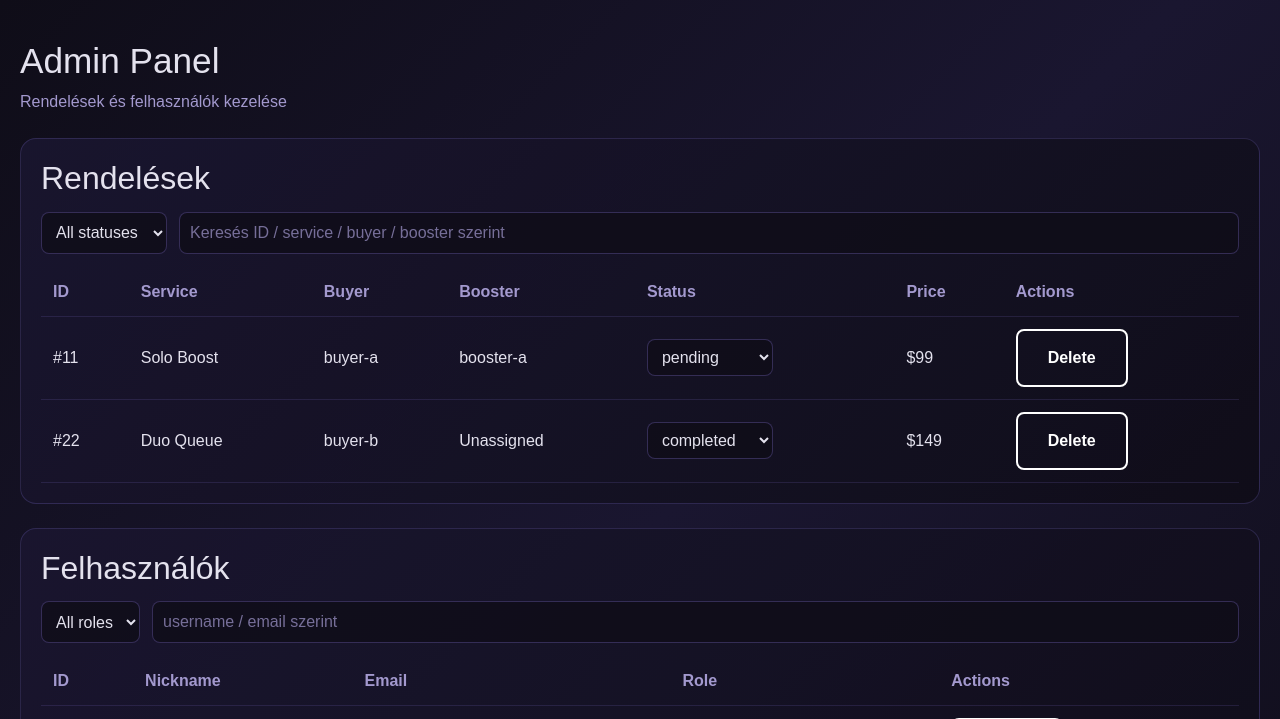
Admin Dashboard › filters orders by status
The image size is (1280, 719).
Select "completed" in the 1st dropdown at (104, 233), box [41,212,167,254]
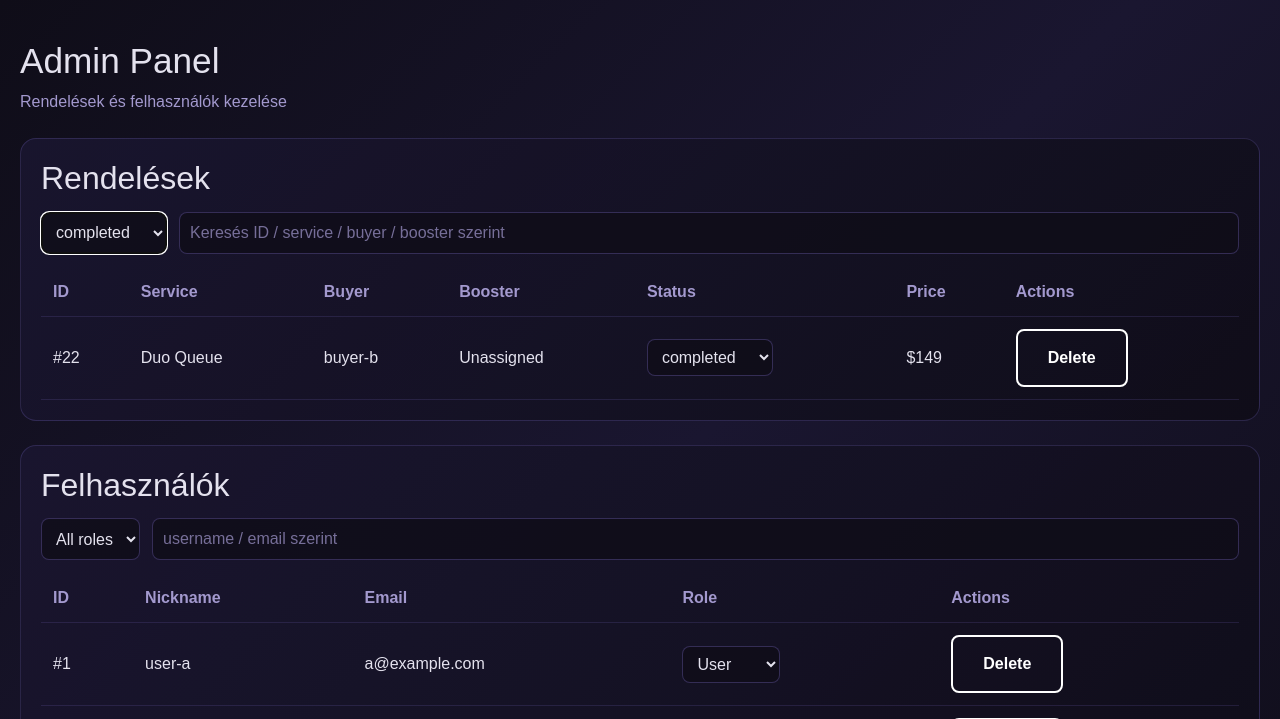
Expected: the text "#22" is shown, [41,316,129,399]
Expected: the text "#11" is gone
